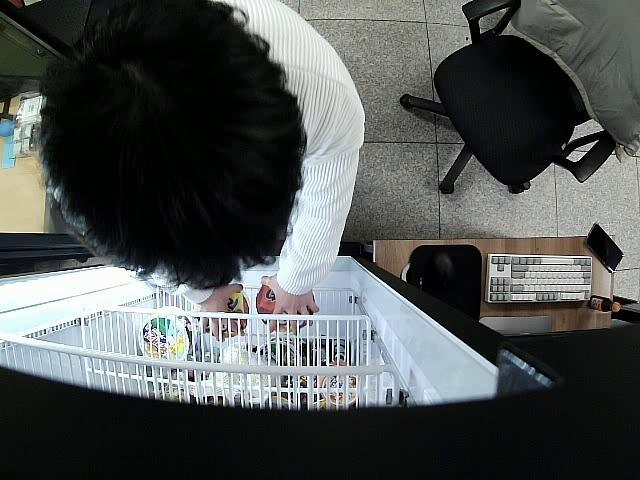05_nuguri_L: (256, 288, 314, 330), (214, 295, 248, 339)
